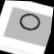no answer: (12, 8, 46, 35)
